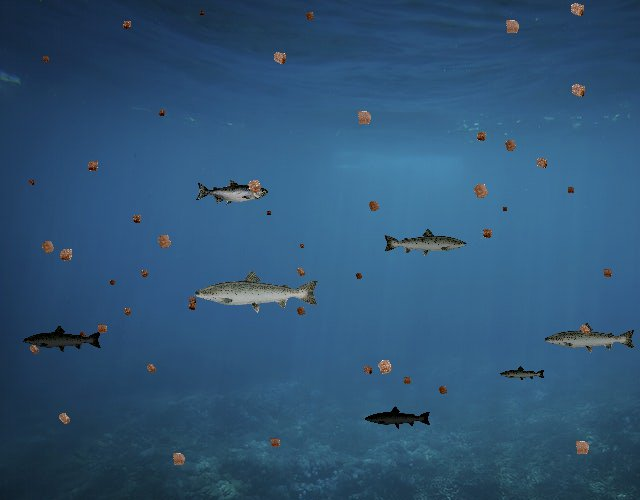Fish: (192, 268, 321, 314), (543, 322, 637, 355), (382, 227, 468, 258), (23, 324, 104, 353), (195, 179, 268, 206), (365, 405, 433, 430), (499, 366, 546, 382)
Pellet: (240, 172, 268, 200), (266, 45, 293, 72), (52, 406, 77, 431), (25, 177, 37, 189)
